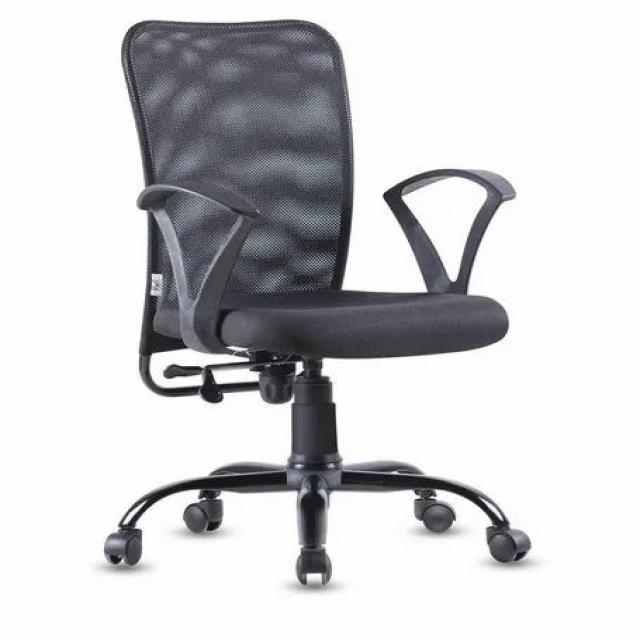chair: (85, 16, 561, 592)
